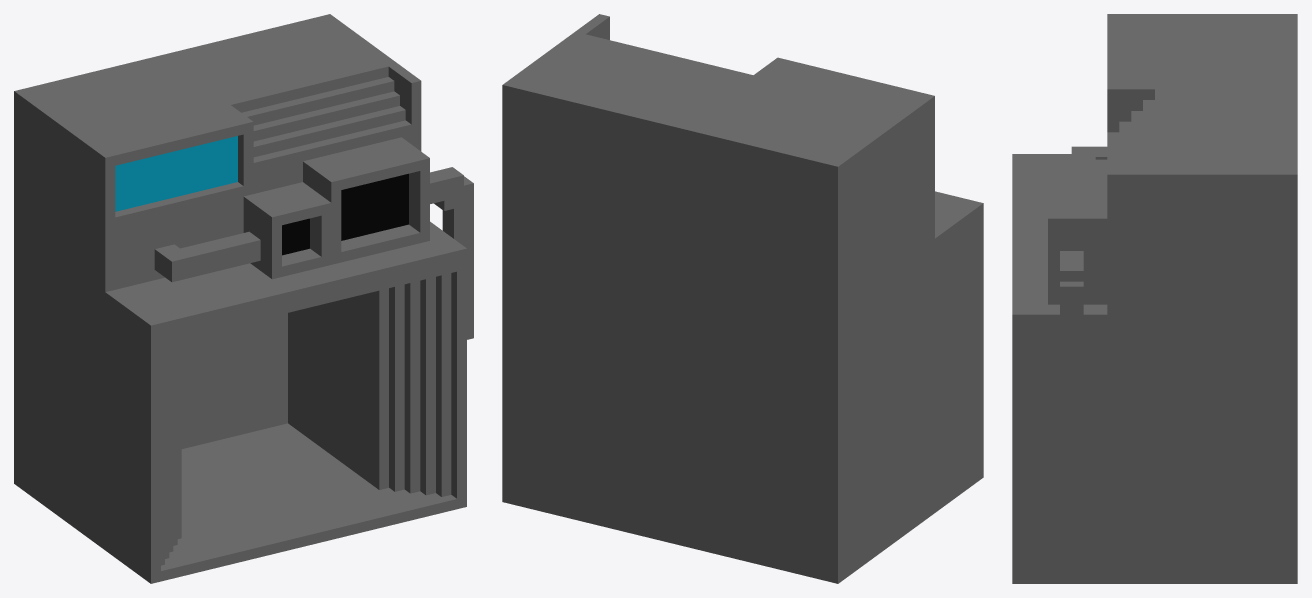
Rendered from HouseGroup-0-ThirdHouse.obj.
3 renders of one model, left to right at view 1: azimuth 30°, elevation 25°; view 2: azimuth 150°, elevation 25°; view 3: azimuth 270°, elevation 25°, orthographic. The views are drawn at different scales.
Parts seen in each view (by area): view 1: ThirdHouse; view 2: ThirdHouse; view 3: ThirdHouse.
Boxes of the visible parts, x1,y1,x2,y2 form: ThirdHouse: [14, 14, 473, 583]; ThirdHouse: [502, 14, 983, 583]; ThirdHouse: [1012, 14, 1297, 583].
Bounding box in the file's own units: 7 × 7.6 × 4.8.
